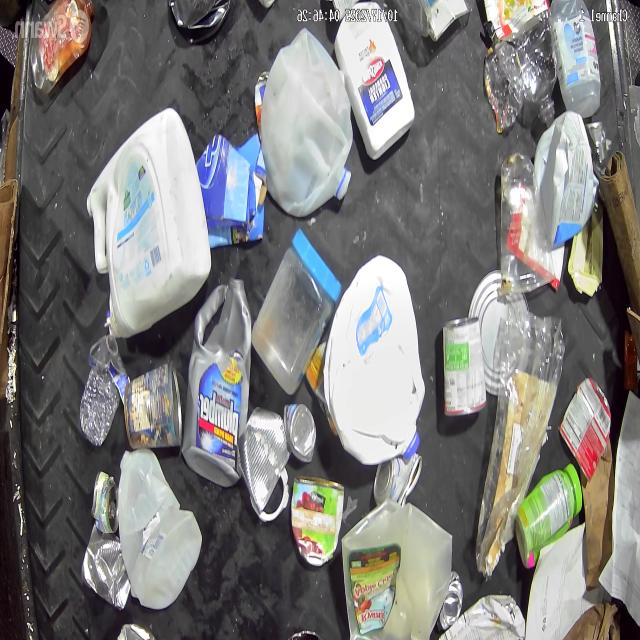can: (237, 407, 290, 521), (559, 377, 611, 483), (123, 363, 182, 448), (291, 476, 344, 566), (442, 316, 487, 418), (81, 536, 130, 611), (372, 452, 423, 507), (285, 402, 317, 464), (436, 571, 463, 633), (92, 471, 115, 533)
milk_jug: (93, 98, 211, 340), (324, 250, 423, 462), (258, 28, 353, 219), (116, 445, 203, 609)
non_white_jug: (341, 507, 453, 640), (180, 280, 252, 484), (537, 112, 595, 246)
plastic_bottle: (77, 337, 126, 446)
